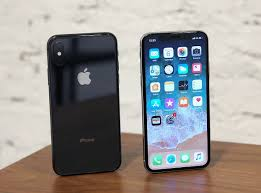iphone: (45, 28, 125, 177), (138, 26, 214, 174)
iphone4: (44, 29, 124, 178), (137, 26, 213, 174)
